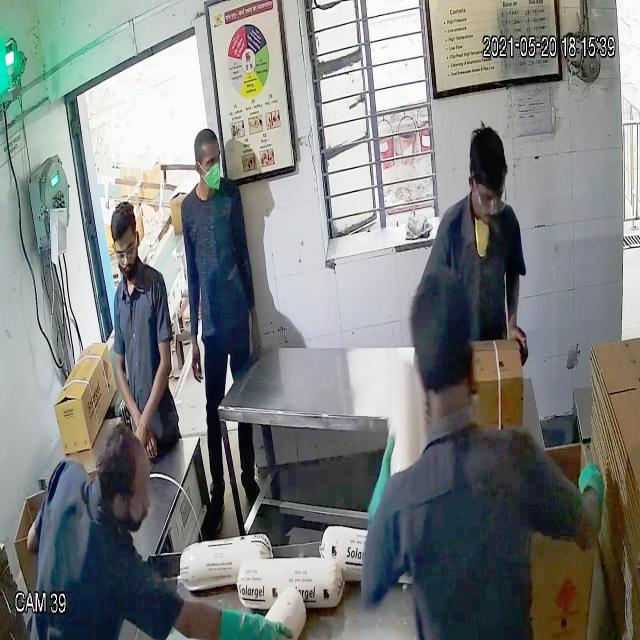glasses: (470, 168, 510, 221), (110, 234, 142, 266)
no-glass: (195, 150, 226, 177)
